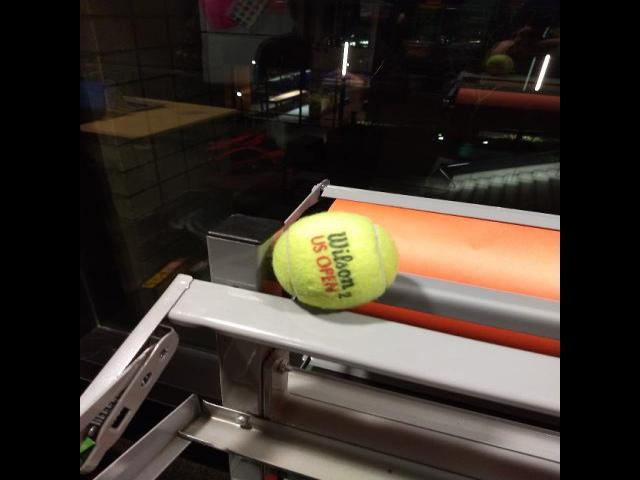tennis-ball: (272, 211, 400, 312)
